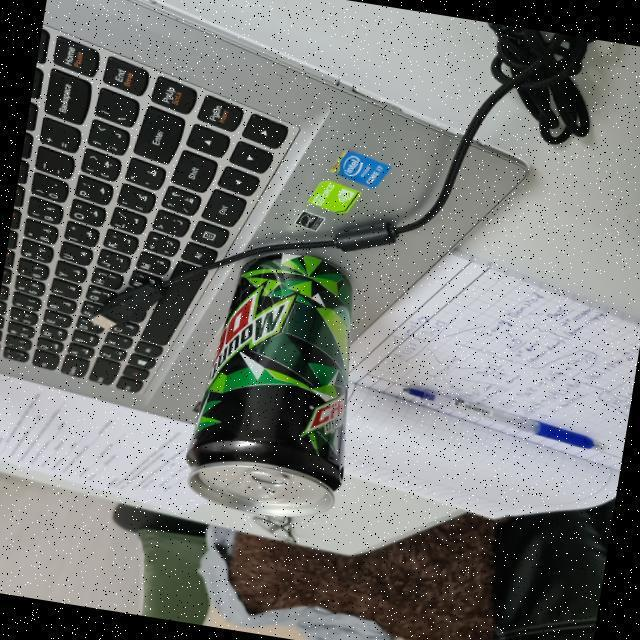can: (170, 234, 398, 536)
